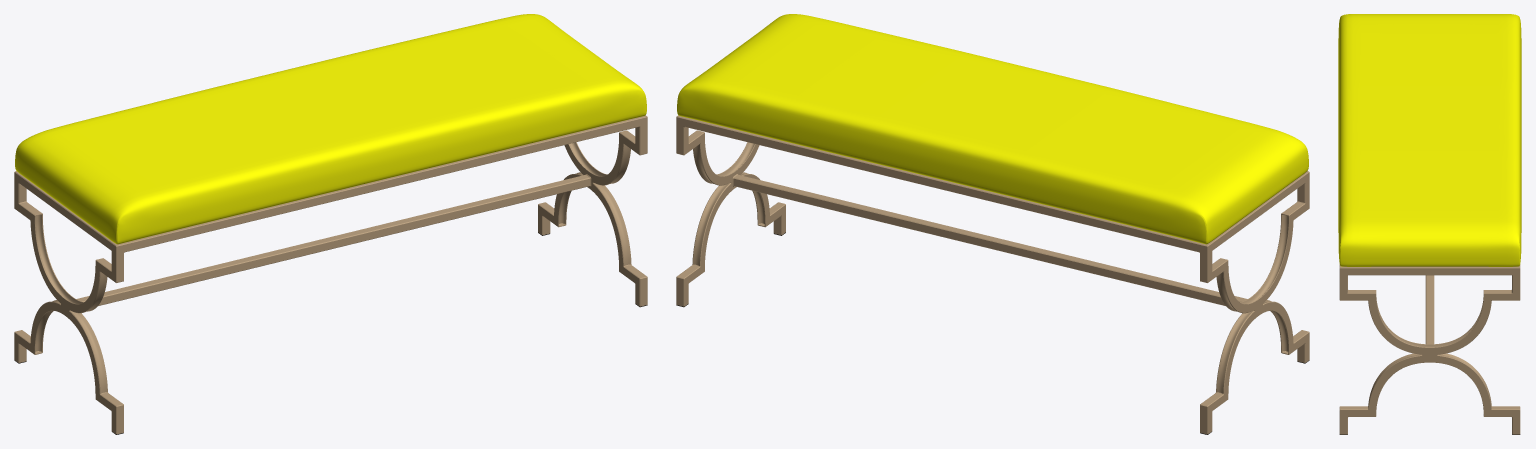
The model's file is LaylaGrayce_Cream_Double_Bench.gltf.
3 views of the same model, side by side, from view 1: azimuth 30°, elevation 25°; view 2: azimuth 150°, elevation 25°; view 3: azimuth 270°, elevation 25° (orthographic). The views are drawn at different scales.
Visible parts, largest first — view 1: LaylaGrayce_Cream_Double_Bench; view 2: LaylaGrayce_Cream_Double_Bench; view 3: LaylaGrayce_Cream_Double_Bench.
Boxes of the visible parts, x1,y1,x2,y2 form: LaylaGrayce_Cream_Double_Bench: (14, 14, 647, 434); LaylaGrayce_Cream_Double_Bench: (676, 14, 1309, 434); LaylaGrayce_Cream_Double_Bench: (1338, 14, 1521, 434).
Bounding box in the file's own units: 1.3 × 0.5311 × 0.4368.
Materials: 3 (1 with a texture image).
